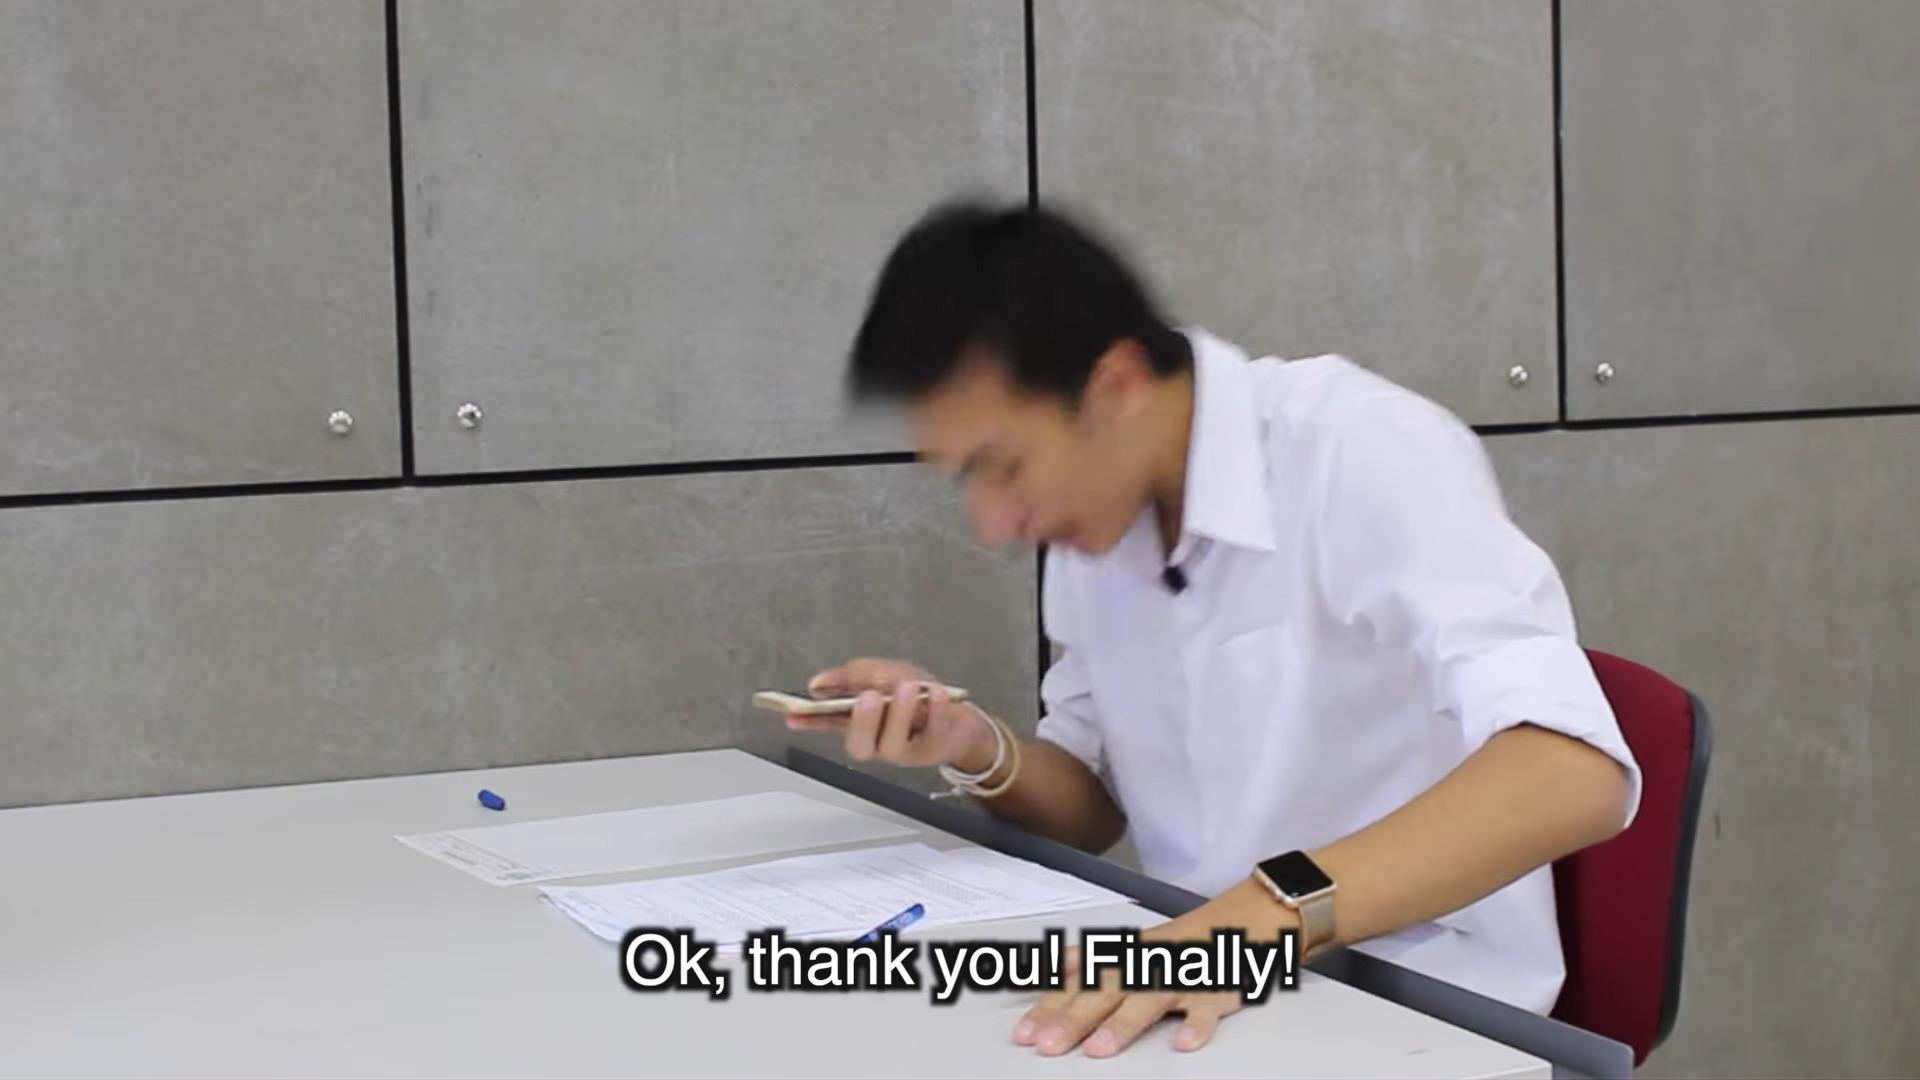cheating: (388, 175, 1701, 910)
